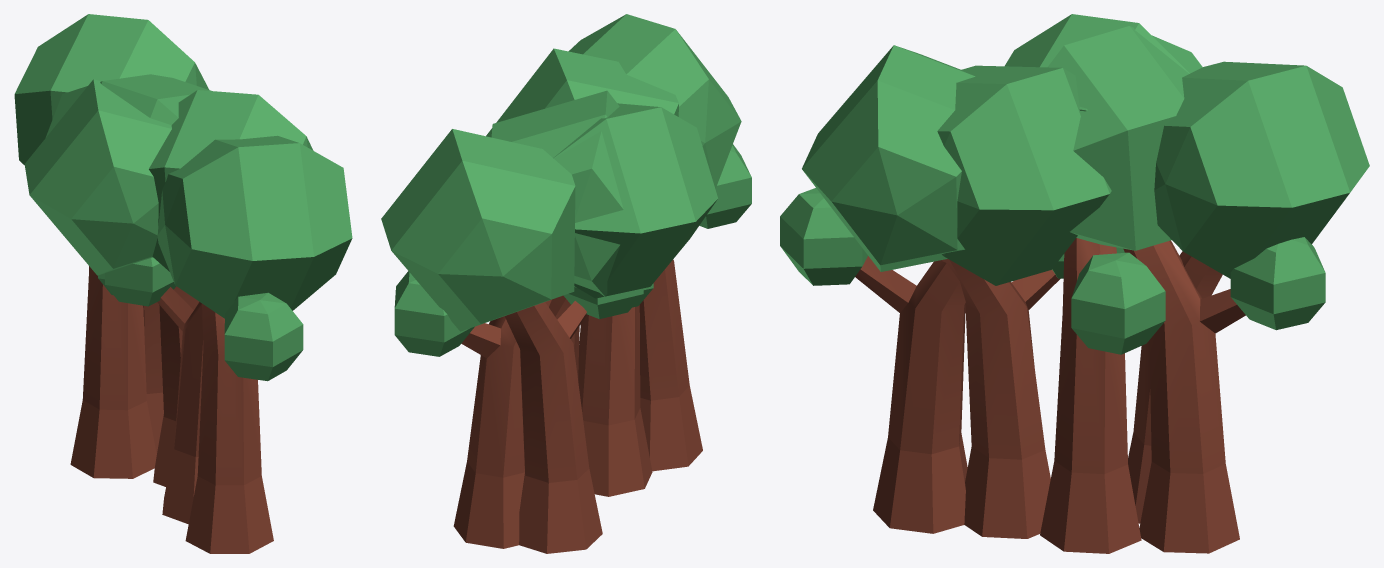
The model's file is tree clump 3.fbx.
3 views of the same model, side by side, from view 1: azimuth 30°, elevation 25°; view 2: azimuth 150°, elevation 25°; view 3: azimuth 270°, elevation 25° (orthographic). The views are drawn at different scales.
Parts seen in each view (by area): view 1: pCylinder49; view 2: pCylinder49; view 3: pCylinder49.
Boxes of the visible parts, <box> form: pCylinder49: <box>14,14,352,553</box>; pCylinder49: <box>381,14,751,553</box>; pCylinder49: <box>780,14,1369,553</box>.
Size of the model in its own units: 869 by 1260 by 1451.
